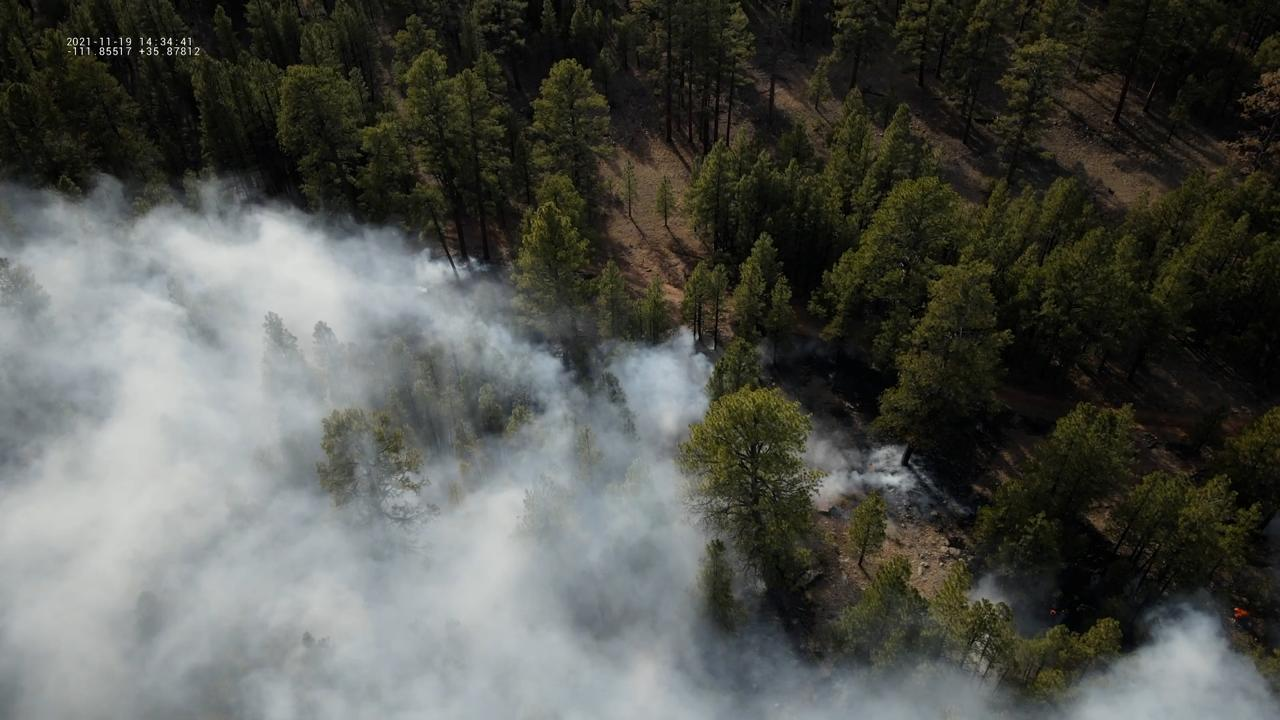fire: (1232, 607, 1249, 620), (1048, 609, 1056, 617)
smoke: (0, 166, 1280, 720), (762, 408, 920, 504), (964, 556, 1065, 651), (752, 335, 833, 368)
